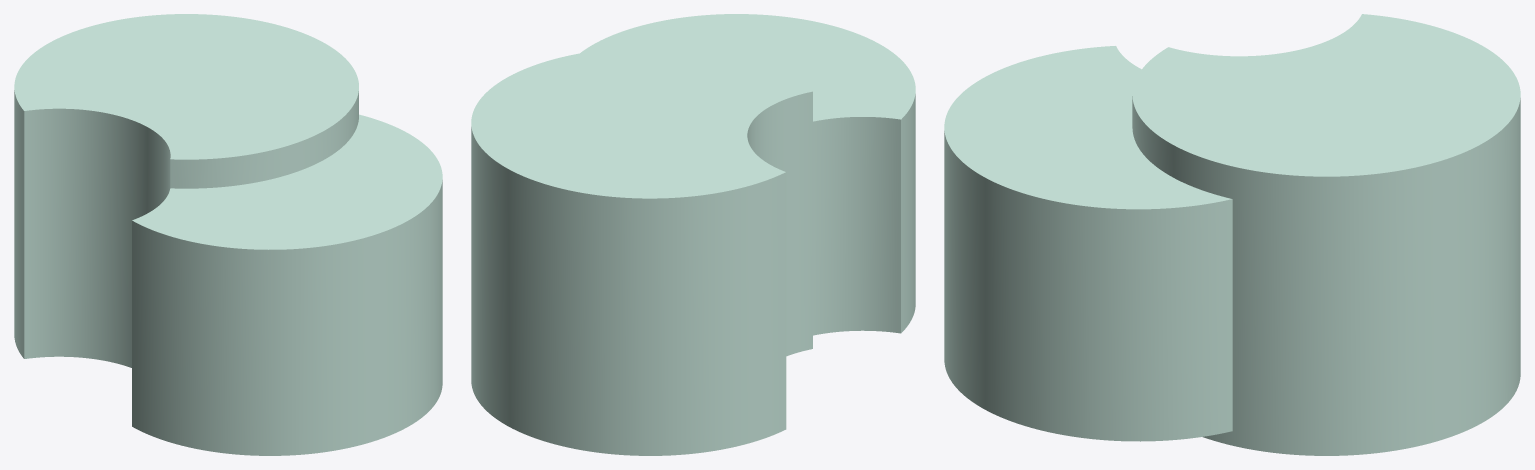
3 views of the same model, side by side, from view 1: azimuth 30°, elevation 25°; view 2: azimuth 150°, elevation 25°; view 3: azimuth 270°, elevation 25° (orthographic). The views are drawn at different scales.
Parts seen in each view (by area): view 1: Renderer Node; view 2: Renderer Node; view 3: Renderer Node.
Part boxes in pixels (x1,y1,x2,y2): Renderer Node: (14, 14, 442, 455); Renderer Node: (471, 14, 915, 455); Renderer Node: (944, 14, 1520, 455).
Size of the model in its own units: 0.7553 by 0.6016 by 1.13.
